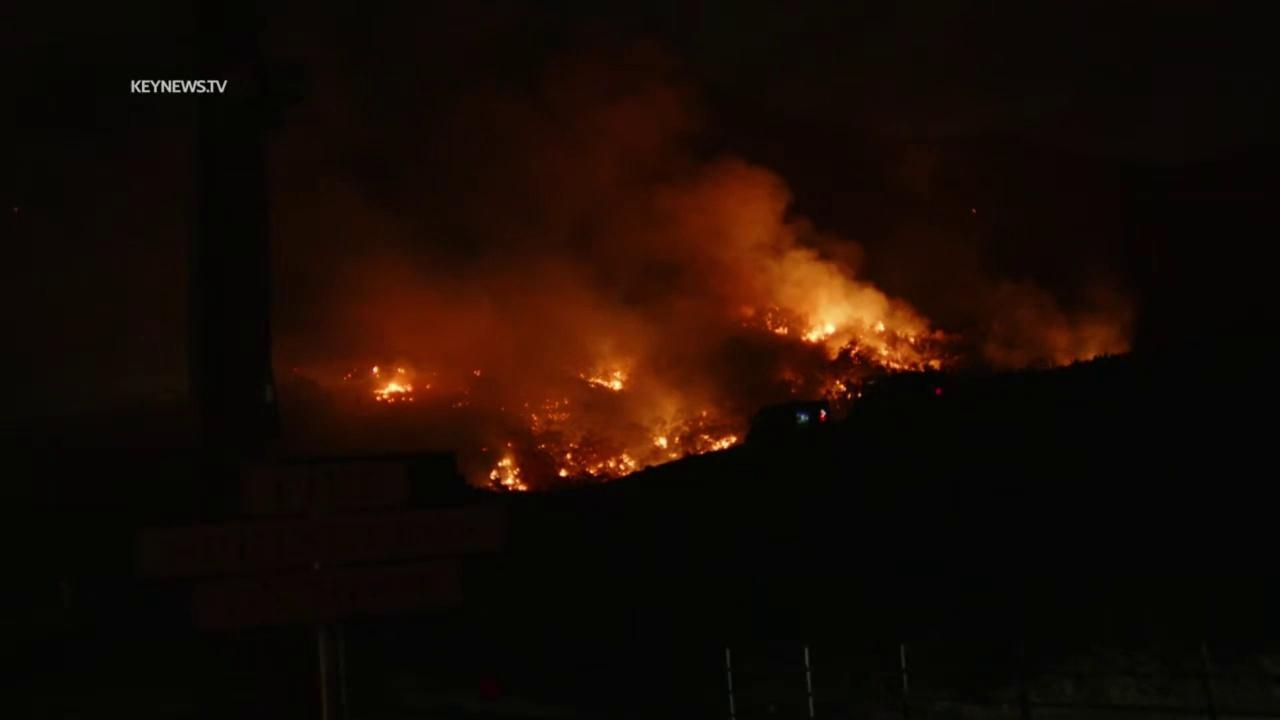fire: (486, 449, 529, 494), (584, 449, 639, 478), (578, 367, 626, 393), (370, 380, 418, 403), (694, 433, 738, 457), (799, 321, 836, 345), (869, 320, 888, 336), (649, 433, 668, 448), (773, 325, 789, 336), (834, 379, 847, 392), (558, 466, 570, 479), (906, 334, 915, 347), (371, 365, 381, 375), (396, 367, 406, 375), (667, 452, 679, 458), (565, 452, 573, 460), (846, 392, 852, 400)
smoke: (254, 26, 1140, 501)
